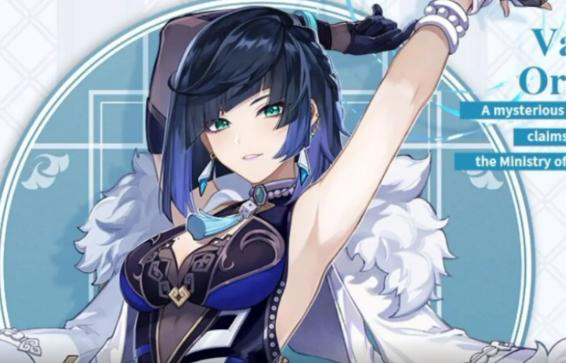夜兰: (116, 1, 554, 354)
